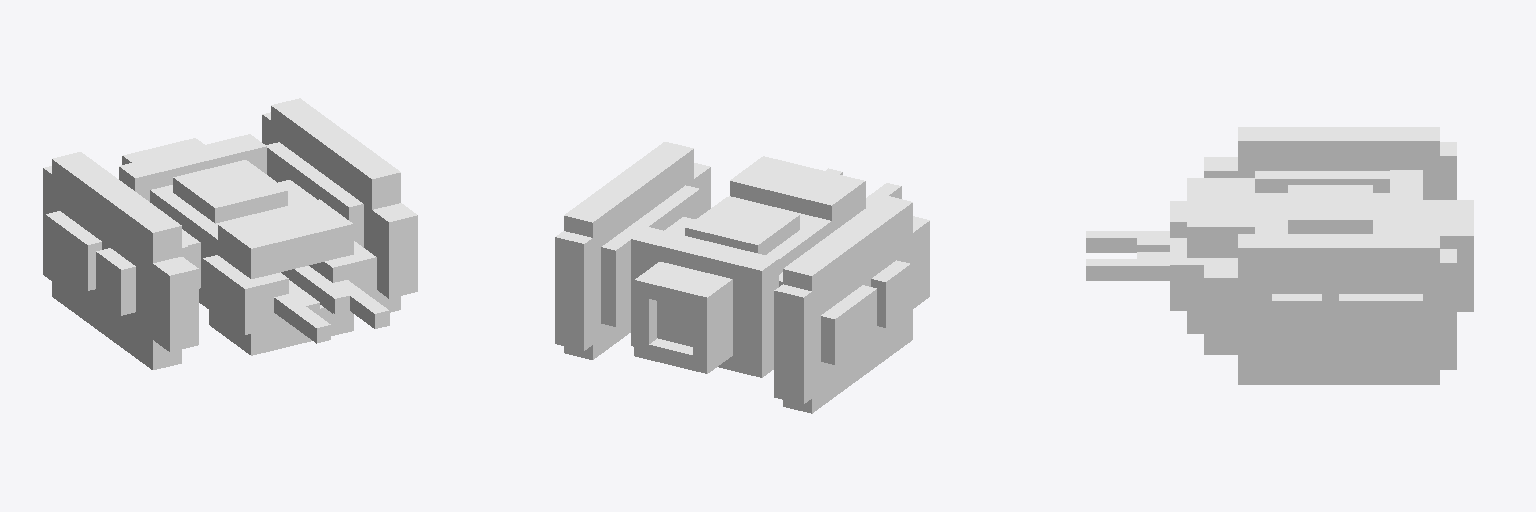
Rendered from EnemyBomber.obj.
3 views of the same model, side by side, from view 1: azimuth 30°, elevation 25°; view 2: azimuth 150°, elevation 25°; view 3: azimuth 270°, elevation 25° (orthographic).
Bounding box in the file's own units: 57 × 27 × 69.